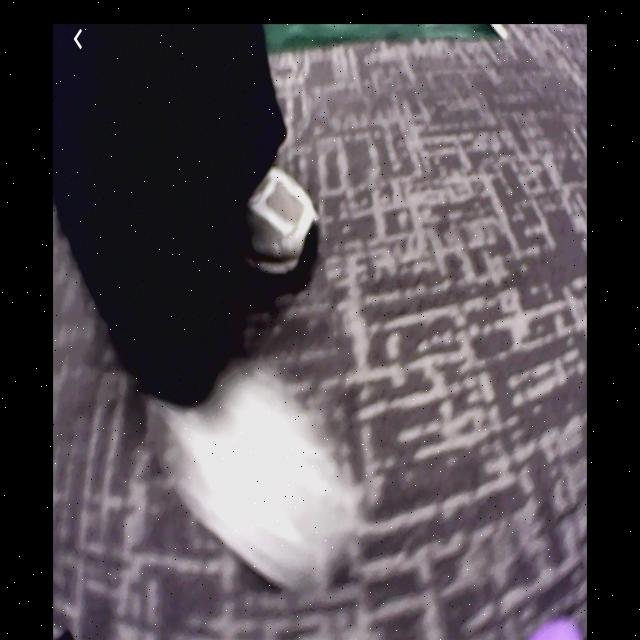ball: (527, 617, 583, 640)
